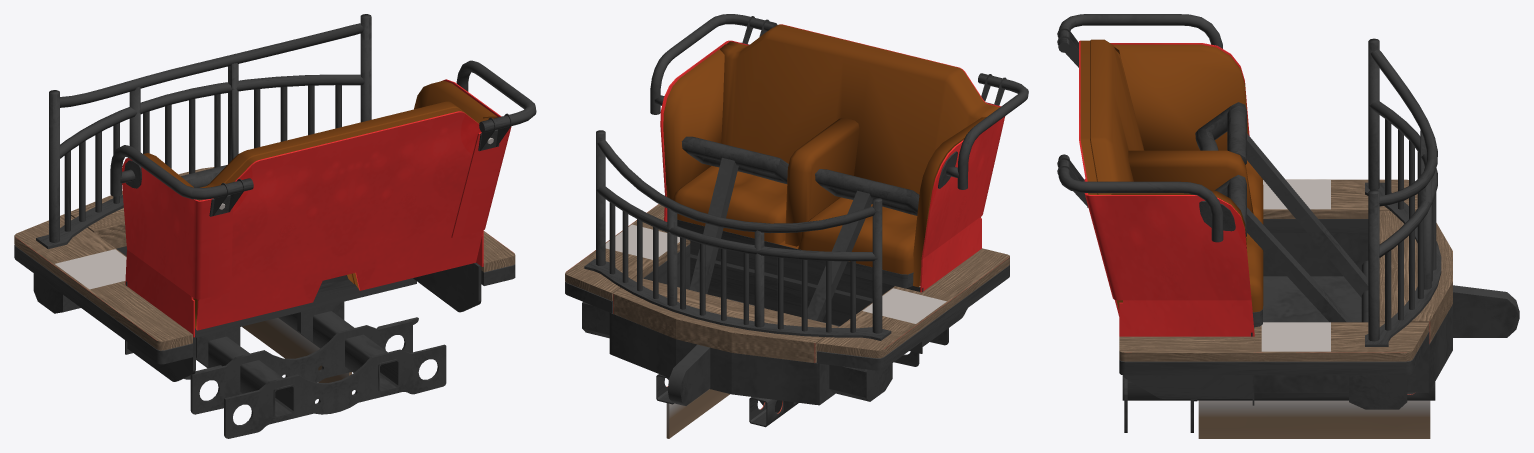
File: millflyzero.glb
3 views of the same model, side by side, from view 1: azimuth 30°, elevation 25°; view 2: azimuth 150°, elevation 25°; view 3: azimuth 270°, elevation 25° (orthographic). The views are drawn at different scales.
Visible parts, largest first — view 1: Rear Plate, Grate, Side Plates, Wood, Wheel Frame.001, Handles.001, Seat, Chassis Tubes, Plate Metal.003, Plane.001, Plane, Supports.001 (+2 smaller); view 2: Seat, Wood, Grate, Backframe, Restraints, Side Plates, Plane.001, Divider, Handles.001, Seat.001, Plane, Chassis Tubes (+1 smaller); view 3: Wood, Side Plates, Seat, Backframe, Grate, Restraints, Plane, Handles.001, Divider, Plate Metal.003, Chassis Tubes.
Part boxes in pixels (x1=…): Rear Plate: x1=196, y1=111, x2=483, y2=330; Grate: x1=36, y1=14, x2=371, y2=249; Side Plates: x1=122, y1=79, x2=511, y2=337; Wood: x1=14, y1=166, x2=515, y2=364; Wheel Frame.001: x1=184, y1=317, x2=446, y2=438; Handles.001: x1=110, y1=60, x2=536, y2=216; Seat: x1=143, y1=80, x2=497, y2=329; Chassis Tubes: x1=196, y1=311, x2=399, y2=418; Plate Metal.003: x1=127, y1=263, x2=481, y2=381; Plane.001: x1=125, y1=278, x2=416, y2=354; Plane: x1=242, y1=318, x2=351, y2=394; Supports.001: x1=196, y1=301, x2=344, y2=366; Seat: x1=663, y1=24, x2=999, y2=287; Wood: x1=565, y1=204, x2=1009, y2=370; Grate: x1=584, y1=130, x2=891, y2=340; Backframe: x1=582, y1=256, x2=892, y2=405; Restraints: x1=681, y1=136, x2=919, y2=322; Side Plates: x1=660, y1=40, x2=1005, y2=292; Plane.001: x1=690, y1=240, x2=923, y2=353; Divider: x1=785, y1=117, x2=859, y2=246; Handles.001: x1=650, y1=14, x2=1028, y2=189; Seat.001: x1=677, y1=219, x2=913, y2=287; Plane: x1=666, y1=389, x2=729, y2=438; Chassis Tubes: x1=656, y1=374, x2=798, y2=427; Wood: x1=1119, y1=179, x2=1452, y2=375; Side Plates: x1=1084, y1=43, x2=1254, y2=336; Seat: x1=1080, y1=39, x2=1263, y2=312; Backframe: x1=1254, y1=233, x2=1519, y2=409; Grate: x1=1365, y1=38, x2=1441, y2=346; Restraints: x1=1195, y1=102, x2=1368, y2=322; Plane: x1=1198, y1=400, x2=1430, y2=438; Handles.001: x1=1057, y1=14, x2=1235, y2=242; Divider: x1=1128, y1=150, x2=1253, y2=213; Plate Metal.003: x1=1123, y1=375, x2=1252, y2=398; Chassis Tubes: x1=1122, y1=375, x2=1435, y2=400.
Bounding box in the file's own units: 1.24 × 1.08 × 1.4.
Materials: 2 (1 with a texture image).
